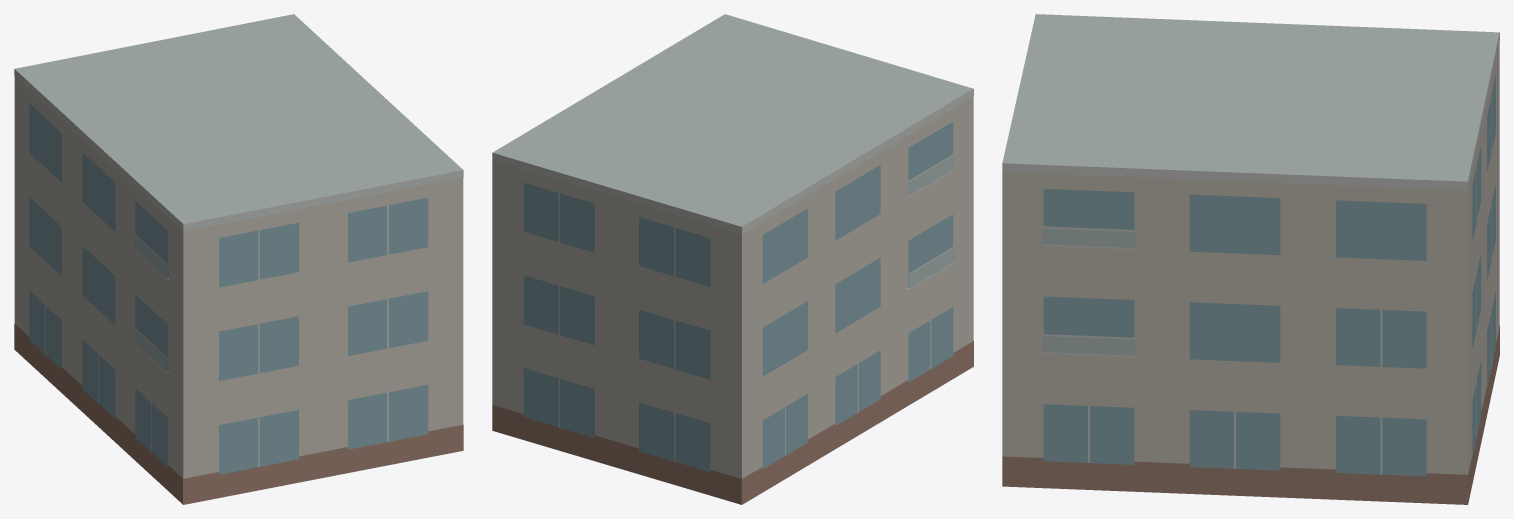
The model's file is survey-upis-33004776.glb.
3 renders of one model, left to right at view 1: azimuth 30°, elevation 25°; view 2: azimuth 150°, elevation 25°; view 3: azimuth 270°, elevation 25°, orthographic. The views are drawn at different scales.
Parts seen in each view (by area): view 1: survey-upis-33004776.tmp; view 2: survey-upis-33004776.tmp; view 3: survey-upis-33004776.tmp.
Part boxes in pixels (x1,y1,x2,y2): survey-upis-33004776.tmp: (14, 14, 463, 504); survey-upis-33004776.tmp: (492, 14, 973, 504); survey-upis-33004776.tmp: (1002, 14, 1499, 504).
Bounding box in the file's own units: 10.19 × 9.15 × 12.77.
